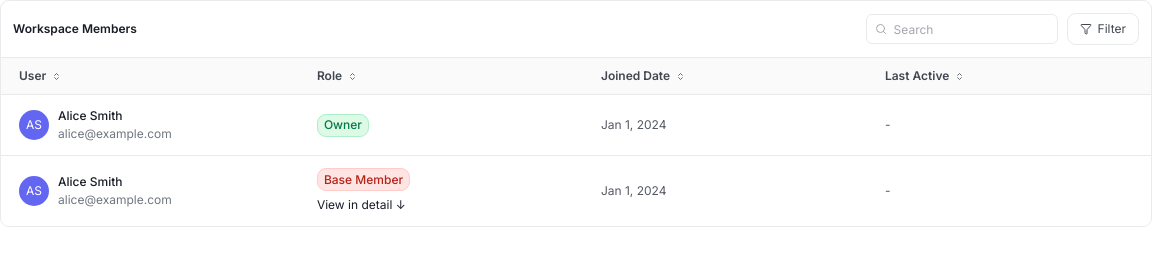
MembersTable › Role Filter › filters members by selected role
Click the button "Filter".
click(1103, 29)  # box [1067,13,1139,45]
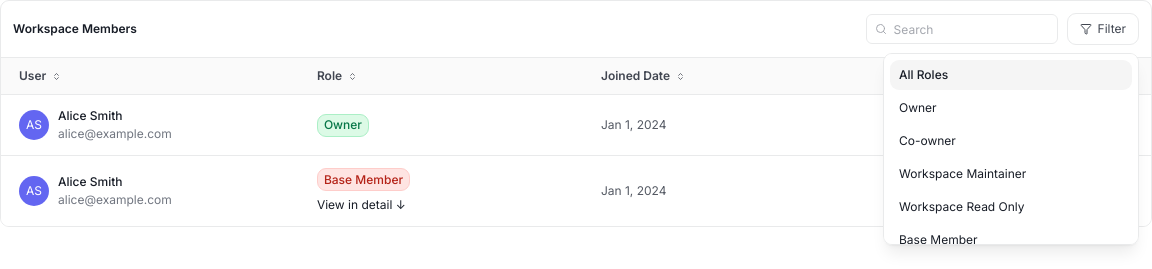
Click the button "Owner".
click(1011, 108)  # box [890,93,1132,123]
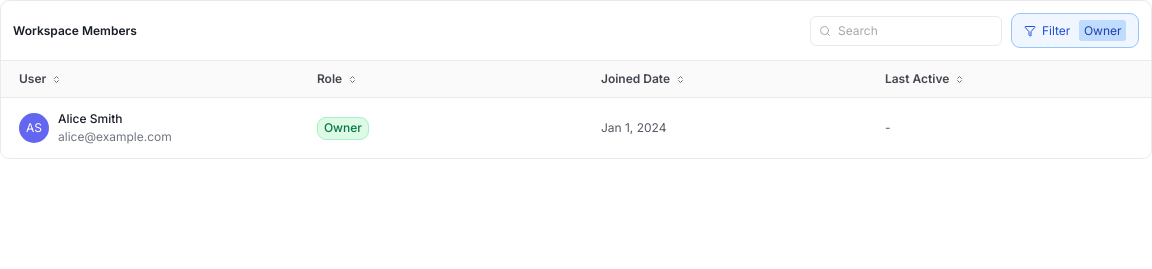
Now the text "Owner" in the row of "Workspace Members" is shown, box [1084,22,1122,38]
Now the text "Base Member" is gone
